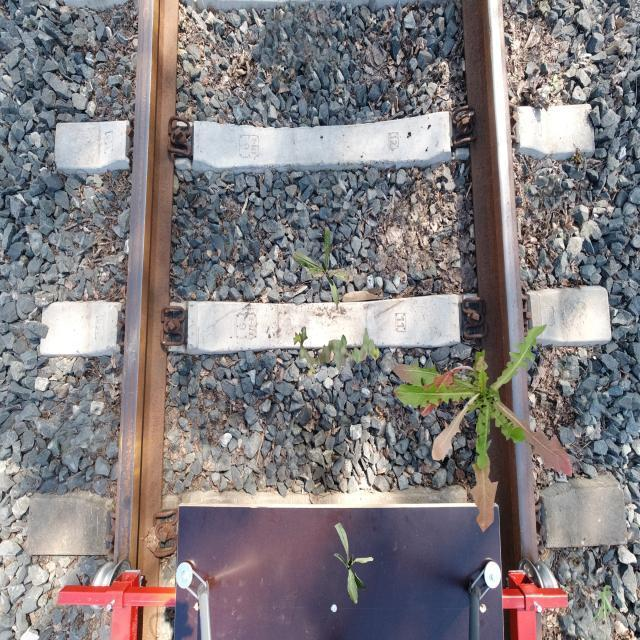Plant: (393, 324, 573, 532), (291, 226, 355, 310), (293, 326, 380, 378), (334, 522, 374, 604), (591, 585, 618, 627)
